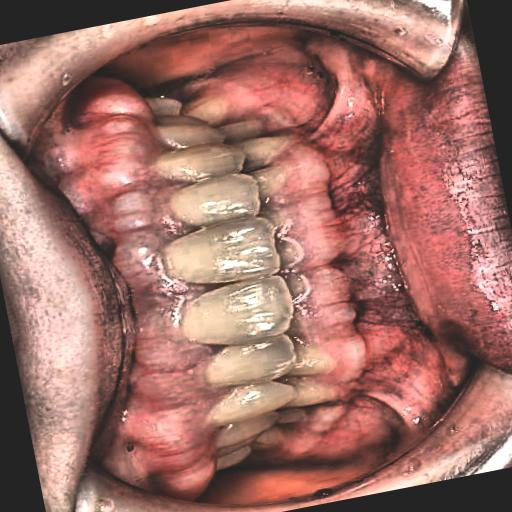Gingivitis: (238, 56, 436, 486), (53, 73, 228, 512)
